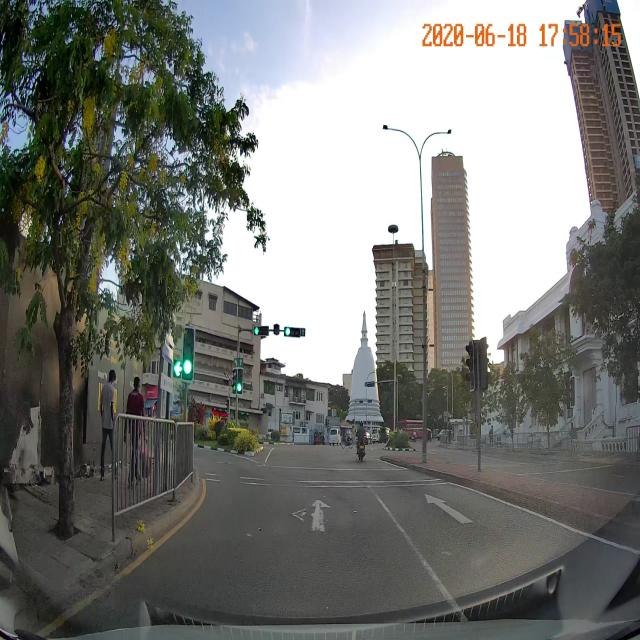forward_lft: (163, 474, 442, 581)
